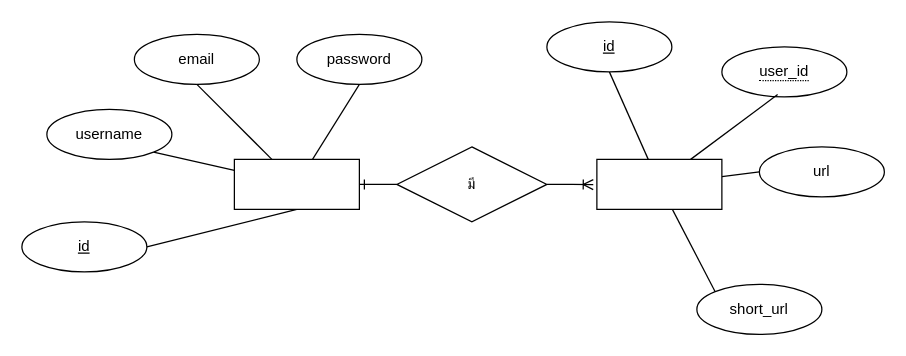
The diagram is 906 pixels wide and 356 high, and some of its shapes have lost their labels. Each missing label, with the centre of its shape:
urls: the point at 659,183
users: the point at 296,183
